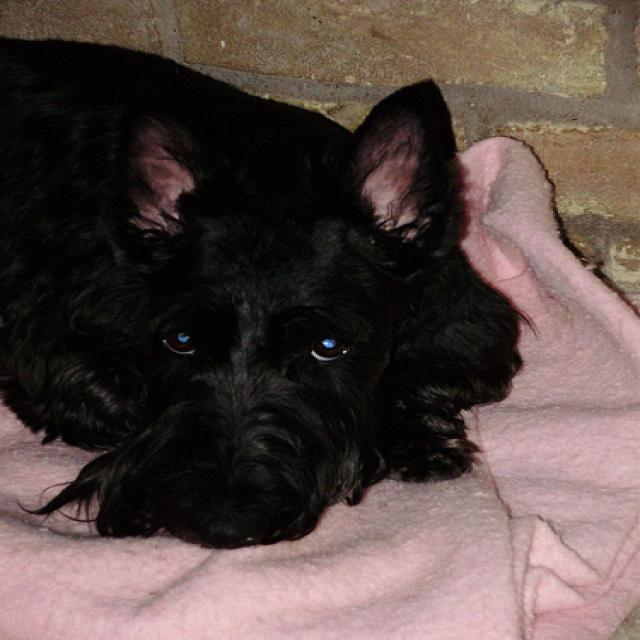dog: (114, 77, 456, 548)
